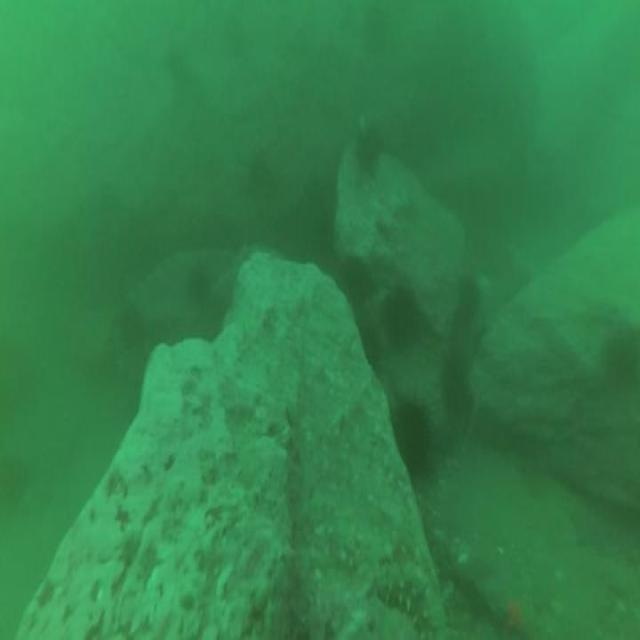echinus: (392, 396, 428, 476), (381, 291, 418, 349), (338, 256, 372, 308), (357, 125, 382, 166), (247, 155, 269, 197), (459, 274, 480, 318)
holothurian: (377, 561, 446, 640)
starfish: (494, 588, 532, 640)
